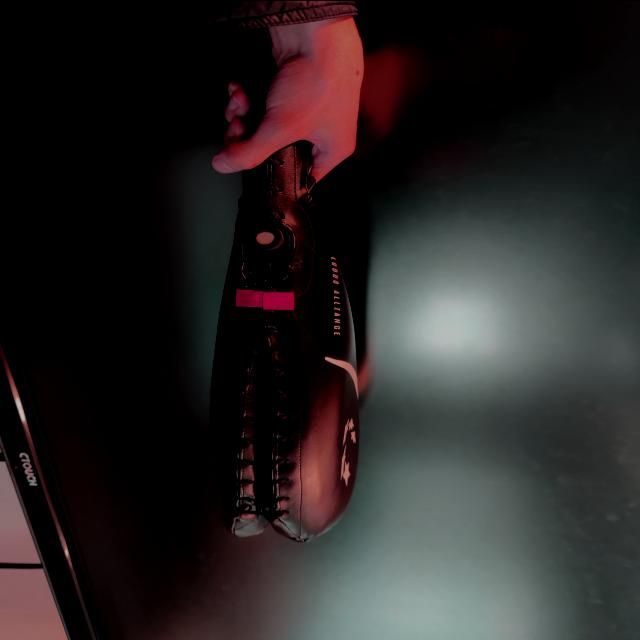paddle: (205, 142, 372, 548)
